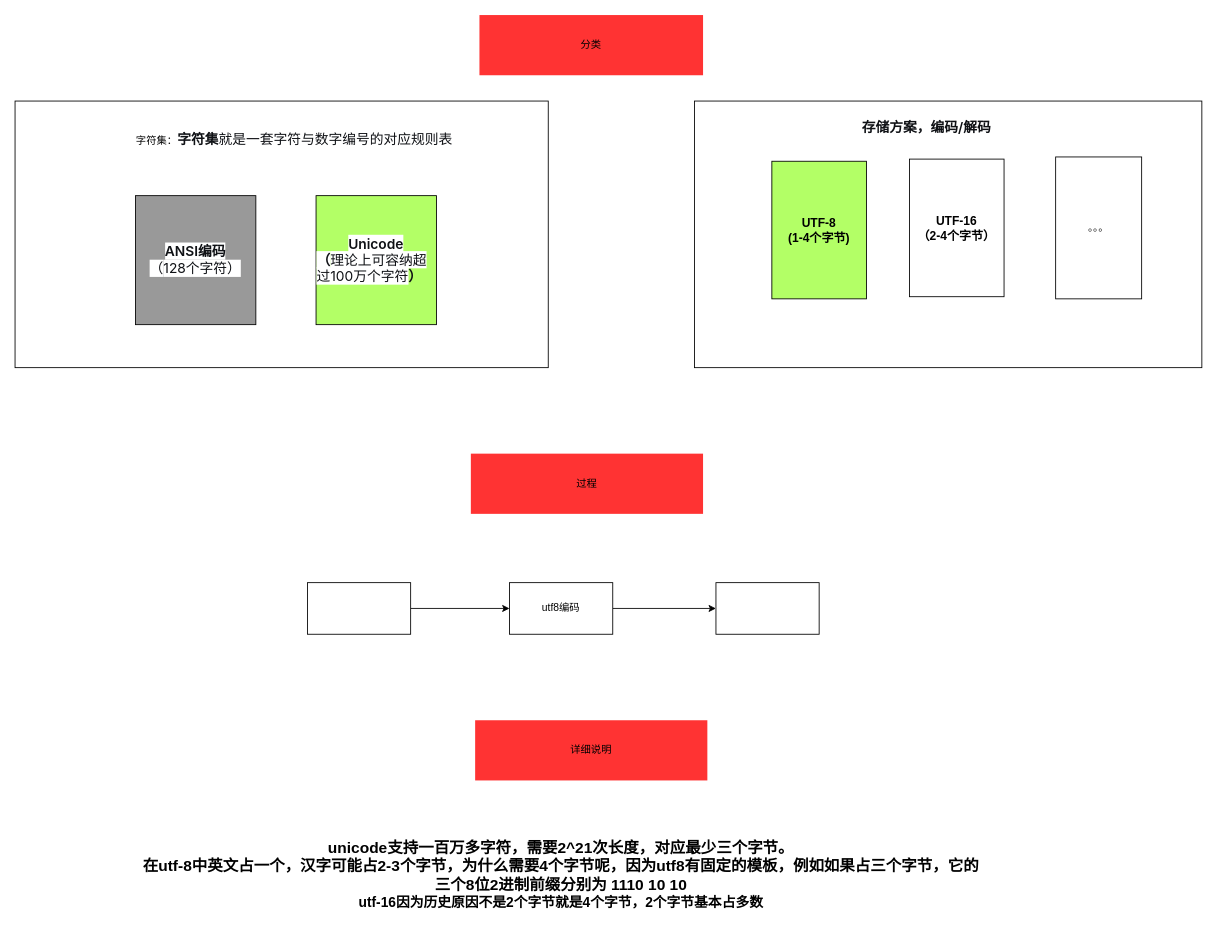
Image size: 1217x941. Some labels were removed from this diagram. Here are the shapes that lost their labels. From the top down, the centre of each, then its label:
pixel 359 608: unicode码点
pixel 767 608: 对应的字节
